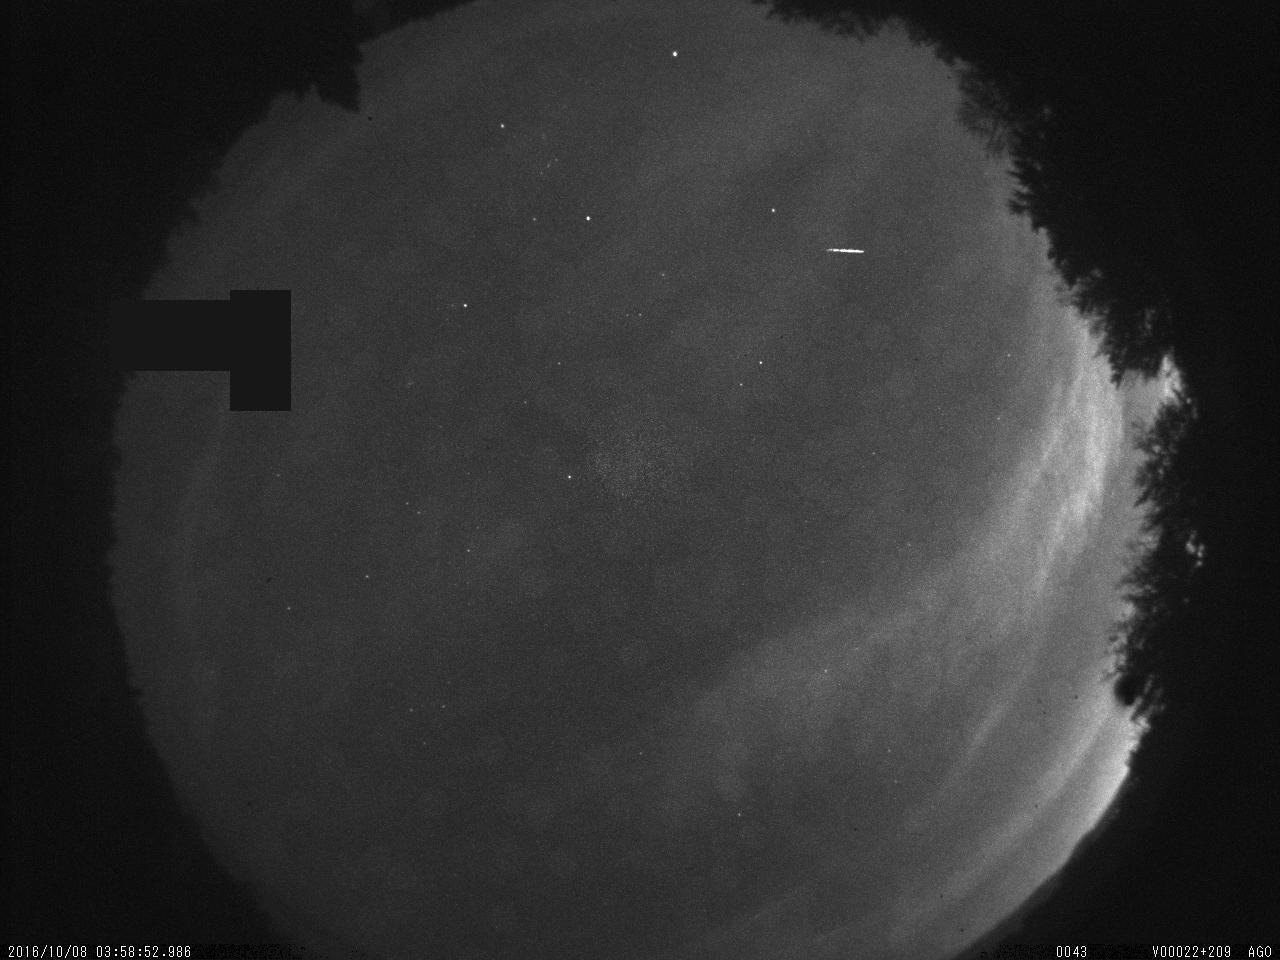Meteor: (820, 241, 871, 259)
